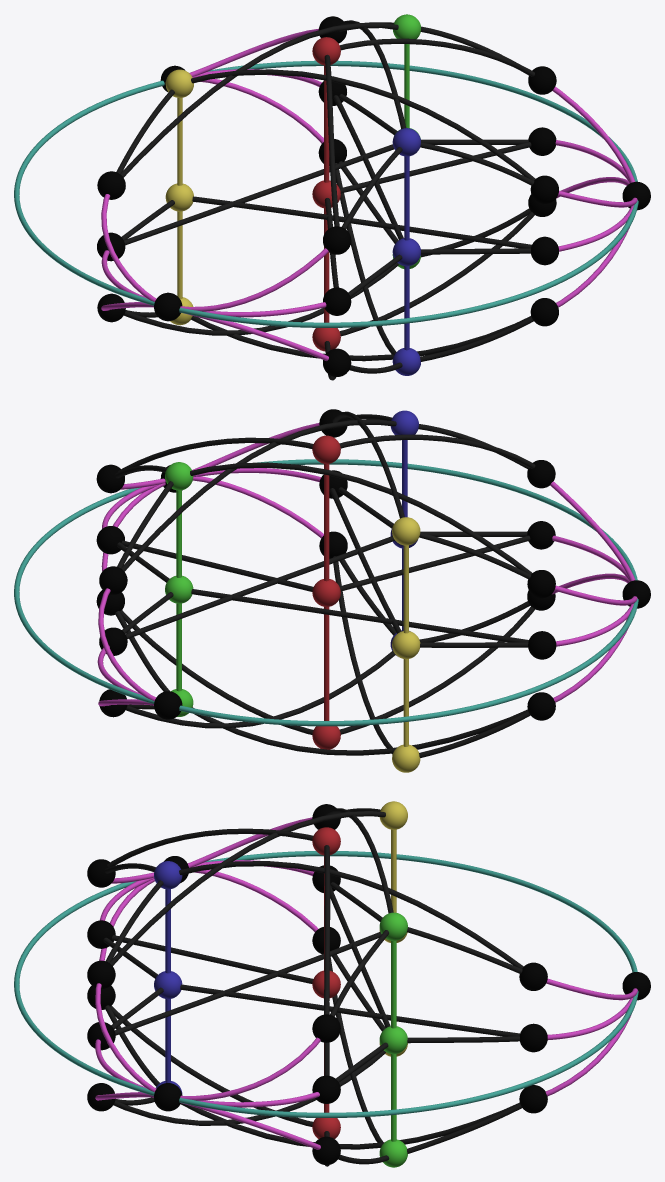
File: Tata_hipergraf_30_44_001.glb
3 renders of one model, top to bottom at view 1: azimuth 30°, elevation 25°; view 2: azimuth 150°, elevation 25°; view 3: azimuth 270°, elevation 25°, orthographic.
Parts seen in each view (by area): view 1: kruznica, Curve.059, Curve.013, Curve.060, Curve.002, Curve.014, Curve.072, Curve.073, Curve.050, Curve.041, Curve.064, Curve.075 (+40 smaller); view 2: kruznica, Curve.060, Curve.014, Curve.061, Curve.073, Curve.017, Curve.074, Curve.080, Curve.002, Curve.065, Curve.035, Curve.062 (+41 smaller); view 3: kruznica, Curve.061, Curve.017, Curve.059, Curve.050, Curve.013, Curve.074, Curve.072, Curve.035, Curve.075, Curve.023, Curve.062 (+38 smaller).
Part boxes in pixels (bbox=[...]): kruznica: bbox=[14, 60, 638, 327]; Curve.059: bbox=[191, 69, 535, 180]; Curve.013: bbox=[192, 196, 531, 248]; Curve.060: bbox=[120, 23, 398, 177]; Curve.002: bbox=[101, 194, 328, 311]; Curve.014: bbox=[124, 144, 393, 245]; Curve.072: bbox=[191, 316, 531, 361]; Curve.073: bbox=[124, 262, 398, 335]; Curve.050: bbox=[552, 87, 637, 207]; Curve.041: bbox=[339, 38, 534, 76]; Curve.064: bbox=[339, 211, 534, 336]; Curve.075: bbox=[101, 302, 328, 360]; kruznica: bbox=[14, 459, 638, 726]; Curve.060: bbox=[190, 462, 532, 574]; Curve.014: bbox=[191, 589, 528, 642]; Curve.061: bbox=[121, 419, 396, 571]; Curve.073: bbox=[192, 707, 527, 755]; Curve.017: bbox=[125, 536, 394, 638]; Curve.074: bbox=[126, 650, 395, 728]; Curve.080: bbox=[324, 464, 329, 720]; Curve.002: bbox=[550, 481, 637, 605]; Curve.065: bbox=[101, 476, 323, 570]; Curve.035: bbox=[339, 434, 535, 468]; Curve.062: bbox=[339, 606, 535, 734]; kruznica: bbox=[14, 851, 638, 1117]; Curve.061: bbox=[179, 861, 523, 968]; Curve.017: bbox=[180, 984, 519, 1036]; Curve.059: bbox=[109, 811, 385, 965]; Curve.050: bbox=[95, 983, 320, 1100]; Curve.013: bbox=[114, 931, 381, 1035]; Curve.074: bbox=[181, 1102, 519, 1149]; Curve.072: bbox=[113, 1050, 385, 1125]; Curve.035: bbox=[107, 828, 313, 867]; Curve.075: bbox=[99, 870, 318, 960]; Curve.023: bbox=[112, 935, 313, 983]; Curve.062: bbox=[110, 1005, 313, 1126].
Size of the model in its own units: 1.07 by 0.5898 by 1.09.
